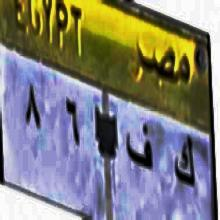6: (63, 87, 81, 152)
8: (23, 84, 44, 138)
faa: (123, 117, 155, 176)
kaaf: (171, 128, 197, 197)
